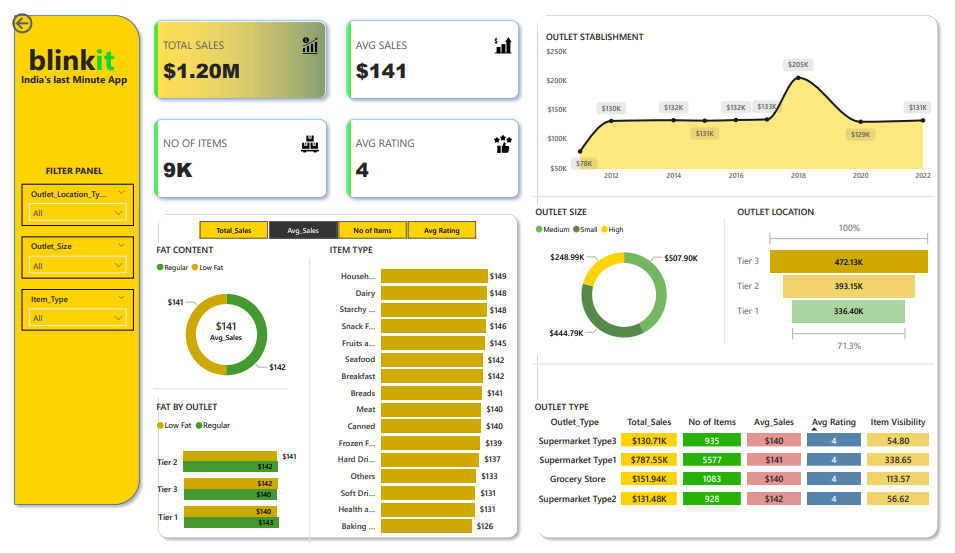

Layout of this report page (visuals, bound fields, positions):
{"tool":"powerbi","page":{"name":"Page 1","canvas":[1400,800],"ordinal":0},"visuals":[{"type":"shape","box":[0,0,204.3,751.4],"z":0},{"type":"textbox","box":[23.6,39.4,157.5,72.4],"z":1000},{"type":"textbox","box":[12.6,88.2,179.5,45.7],"z":2000},{"type":"actionButton","box":[0,0,100,40],"z":3000},{"type":"cardVisual","fields":{"Data":["BlinkIT Grocery Data.Total_Sales","BlinkIT Grocery Data.Avg_Sales","BlinkIT Grocery Data.No of Items","BlinkIT Grocery Data.Avg Rating"]},"box":[201.4,0,580,298.6],"z":4000},{"type":"shape","box":[215.7,299.2,554.3,500.8],"z":5000},{"type":"donutChart","title":"FAT CONTENT","fields":{"Y":["BlinkIT Grocery Data.Avg_Sales"],"Category":["BlinkIT Grocery Data.Item_Fat_Content"]},"box":[215.7,349.6,220,230],"z":6000},{"type":"slicer","fields":{"Values":["Metrics .Metrics "]},"box":[259.8,310.2,464.6,39.4],"z":7000},{"type":"cardVisual","fields":{"Data":["BlinkIT Grocery Data.Avg_Sales"]},"box":[275.6,444.1,99.2,74],"z":8000},{"type":"clusteredBarChart","title":"FAT BY OUTLET","fields":{"Y":["BlinkIT Grocery Data.Avg_Sales"],"Category":["BlinkIT Grocery Data.Outlet_Location_Type"],"Series":["BlinkIT Grocery Data.Item_Fat_Content"]},"box":[215.7,587.1,220,212.9],"z":9000},{"type":"shape","box":[215.7,549.6,201.6,37.8],"z":10000},{"type":"shape","box":[436.2,371.7,28.3,428.3],"z":11000},{"type":"barChart","title":"ITEM TYPE","fields":{"Y":["BlinkIT Grocery Data.Avg_Sales"],"Category":["BlinkIT Grocery Data.Item_Type"]},"box":[475.6,349.6,275.6,450.4],"z":12000},{"type":"shape","box":[784.3,0,615.7,800],"z":13000},{"type":"lineChart","title":"OUTLET STABLISHMENT","fields":{"Y":["BlinkIT Grocery Data.Total_Sales"],"Category":["BlinkIT Grocery Data.Outlet_Establishment_Year"]},"box":[800,31.5,587.4,234.6],"z":14000},{"type":"shape","box":[784.3,261.4,603.1,37.8],"z":15000},{"type":"donutChart","title":"OUTLET SIZE","fields":{"Y":["BlinkIT Grocery Data.Total_Sales"],"Category":["BlinkIT Grocery Data.Outlet_Size"]},"box":[784.3,292.9,275.6,225.2],"z":16000},{"type":"shape","box":[1058.3,311.8,28.3,189],"z":17000},{"type":"funnel","title":"OUTLET LOCATION","fields":{"Category":["BlinkIT Grocery Data.Outlet_Location_Type"],"Y":["Sum(BlinkIT Grocery Data.Sales)"]},"box":[1087.1,292.9,300,225.7],"z":18000},{"type":"shape","box":[784.3,512.9,602.9,37.1],"z":19000},{"type":"pivotTable","title":"OUTLET TYPE","fields":{"Rows":["BlinkIT Grocery Data.Outlet_Type"],"Values":["BlinkIT Grocery Data.Total_Sales","BlinkIT Grocery Data.No of Items","BlinkIT Grocery Data.Avg_Sales","BlinkIT Grocery Data.Avg Rating","Sum(BlinkIT Grocery Data.Item_Visibility)"]},"box":[782.9,585.7,604.3,198.6],"z":20000},{"type":"slicer","fields":{"Values":["BlinkIT Grocery Data.Outlet_Location_Type"]},"box":[18.6,261.4,168.6,62.9],"z":21000},{"type":"slicer","fields":{"Values":["BlinkIT Grocery Data.Outlet_Size"]},"box":[18.6,340,168.6,62.9],"z":22000},{"type":"slicer","fields":{"Values":["BlinkIT Grocery Data.Item_Type"]},"box":[18.6,418.6,168.6,62.9],"z":23000},{"type":"textbox","box":[50,227.1,115.7,34.3],"z":23001}]}

Visuals, with their boxes in screenshot pixels (x1, y1, x2, y2), scaled from the page's 1400x800 canvas onto the 955x553 screenshot:
shape: <region>0, 0, 139, 519</region>
textbox: <region>16, 27, 124, 77</region>
textbox: <region>9, 61, 131, 93</region>
actionButton: <region>0, 0, 68, 28</region>
cardVisual - BlinkIT Grocery Data.Total_Sales x BlinkIT Grocery Data.Avg_Sales: <region>137, 0, 533, 206</region>
shape: <region>147, 207, 525, 552</region>
"FAT CONTENT" donutChart: <region>147, 242, 297, 401</region>
slicer - Metrics .Metrics : <region>177, 214, 494, 242</region>
cardVisual - BlinkIT Grocery Data.Avg_Sales: <region>188, 307, 256, 358</region>
"FAT BY OUTLET" clusteredBarChart: <region>147, 406, 297, 552</region>
shape: <region>147, 380, 285, 406</region>
shape: <region>298, 257, 317, 552</region>
"ITEM TYPE" barChart: <region>324, 242, 512, 552</region>
shape: <region>535, 0, 954, 552</region>
"OUTLET STABLISHMENT" lineChart: <region>546, 22, 946, 184</region>
shape: <region>535, 181, 946, 207</region>
"OUTLET SIZE" donutChart: <region>535, 202, 723, 358</region>
shape: <region>722, 216, 741, 346</region>
"OUTLET LOCATION" funnel: <region>742, 202, 946, 358</region>
shape: <region>535, 355, 946, 380</region>
"OUTLET TYPE" pivotTable: <region>534, 405, 946, 542</region>
slicer - BlinkIT Grocery Data.Outlet_Location_Type: <region>13, 181, 128, 224</region>
slicer - BlinkIT Grocery Data.Outlet_Size: <region>13, 235, 128, 279</region>
slicer - BlinkIT Grocery Data.Item_Type: <region>13, 289, 128, 333</region>
textbox: <region>34, 157, 113, 181</region>
